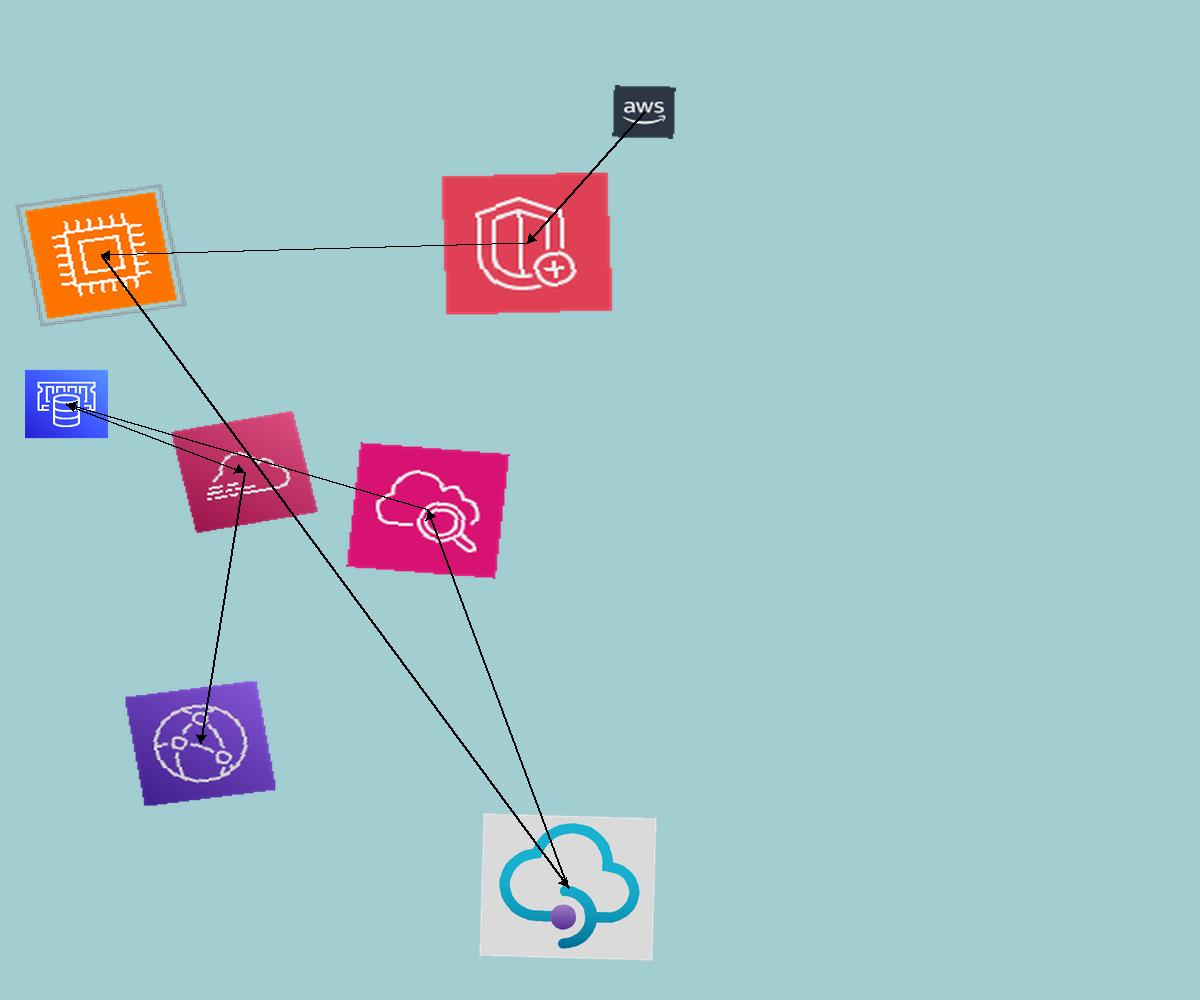AWS-Category_Compute: (14, 183, 188, 328)
AWS-Cloud-logo: (612, 85, 676, 139)
AWS-CloudFront: (124, 680, 277, 807)
AWS-CloudTrail: (170, 410, 319, 534)
AWS-CloudWatch: (346, 442, 510, 579)
AWS-ElastiCache: (24, 369, 109, 439)
AWS-Shield: (440, 171, 614, 316)
Azure_api_gateway: (479, 813, 657, 961)
